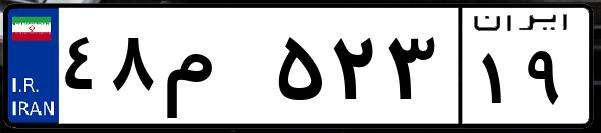1: (475, 38, 525, 113)
2: (330, 28, 385, 110)
3: (385, 28, 445, 110)
4: (57, 26, 110, 100)
5: (270, 28, 330, 110)
8: (110, 28, 158, 98)
9: (525, 38, 570, 115)
م: (158, 20, 270, 120)
